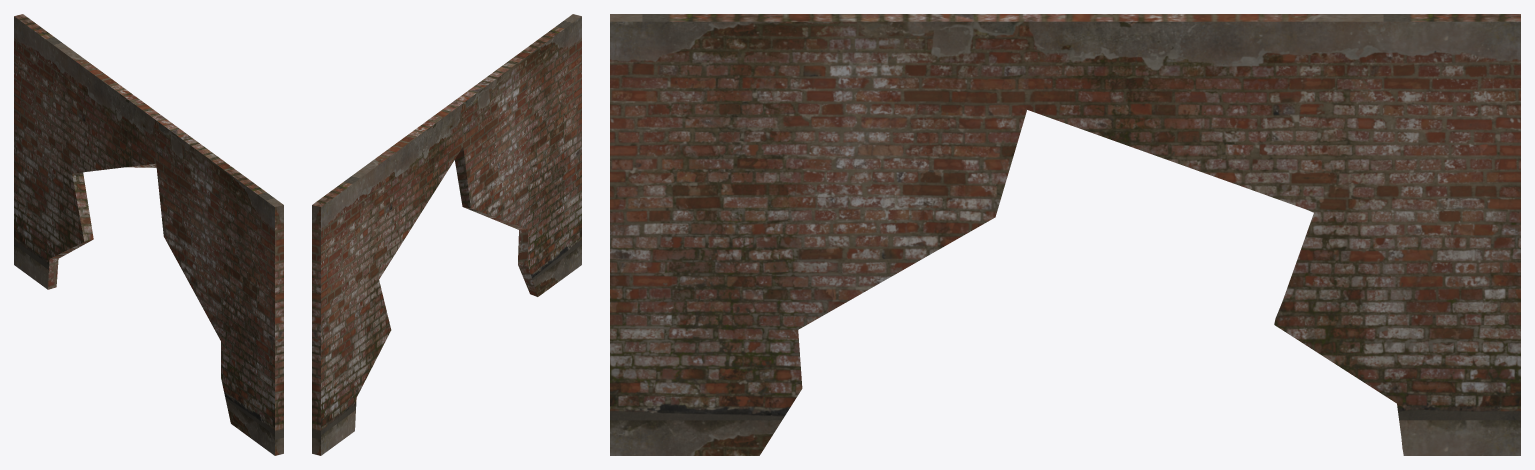
The model's file is tunnel_Wall2x_Broken_GEO.fbx.
The picture shows the model from 3 angles, left to right: view 1: azimuth 30°, elevation 25°; view 2: azimuth 150°, elevation 25°; view 3: azimuth 270°, elevation 25°; orthographic projection. The views are drawn at different scales.
Visible parts, largest first — view 1: tunnel_Wall2x_Broken_GEO; view 2: tunnel_Wall2x_Broken_GEO; view 3: tunnel_Wall2x_Broken_GEO.
Boxes of the visible parts, bbox=[...] form: tunnel_Wall2x_Broken_GEO: bbox=[14, 14, 283, 455]; tunnel_Wall2x_Broken_GEO: bbox=[312, 14, 581, 455]; tunnel_Wall2x_Broken_GEO: bbox=[610, 14, 1520, 455].
Size of the model in its own units: 0.1999 by 5.26 by 10.
